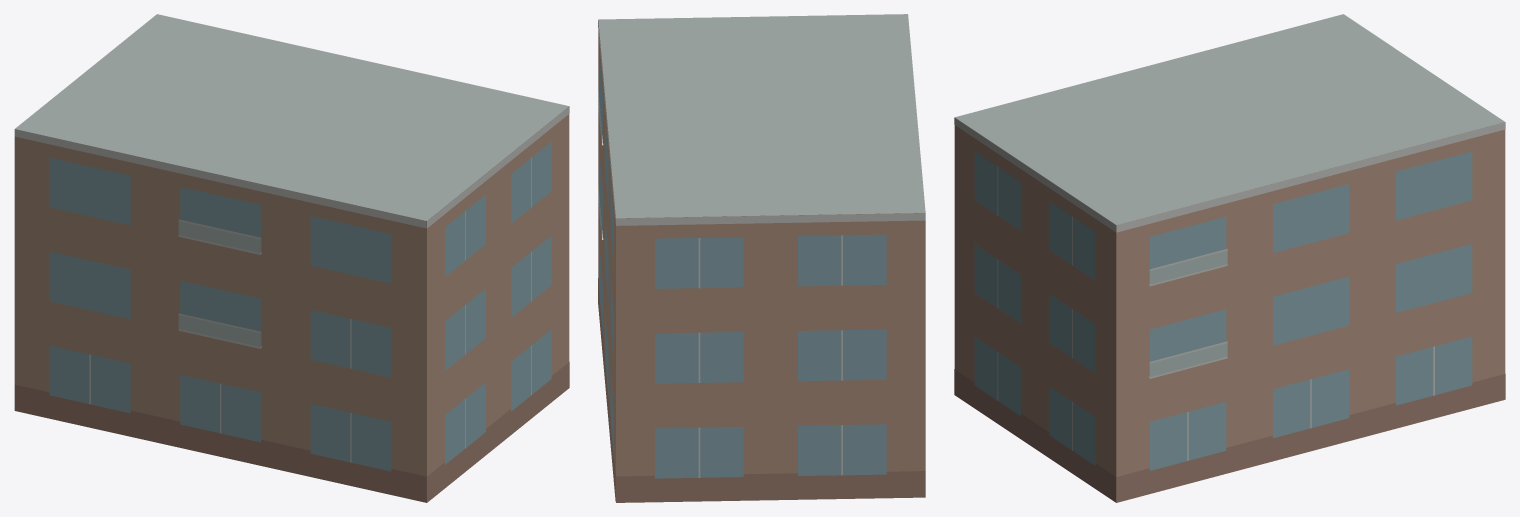
Rendered from survey-upis-32719674.glb.
3 views of the same model, side by side, from view 1: azimuth 30°, elevation 25°; view 2: azimuth 150°, elevation 25°; view 3: azimuth 270°, elevation 25° (orthographic). The views are drawn at different scales.
Parts seen in each view (by area): view 1: survey-upis-32719674.tmp; view 2: survey-upis-32719674.tmp; view 3: survey-upis-32719674.tmp.
Part boxes in pixels (left/top/right/bottom): survey-upis-32719674.tmp: left=14, top=14, right=569, bottom=502; survey-upis-32719674.tmp: left=598, top=14, right=925, bottom=502; survey-upis-32719674.tmp: left=954, top=14, right=1505, bottom=502.
Size of the model in its own units: 14.94 by 9.15 by 16.47.
